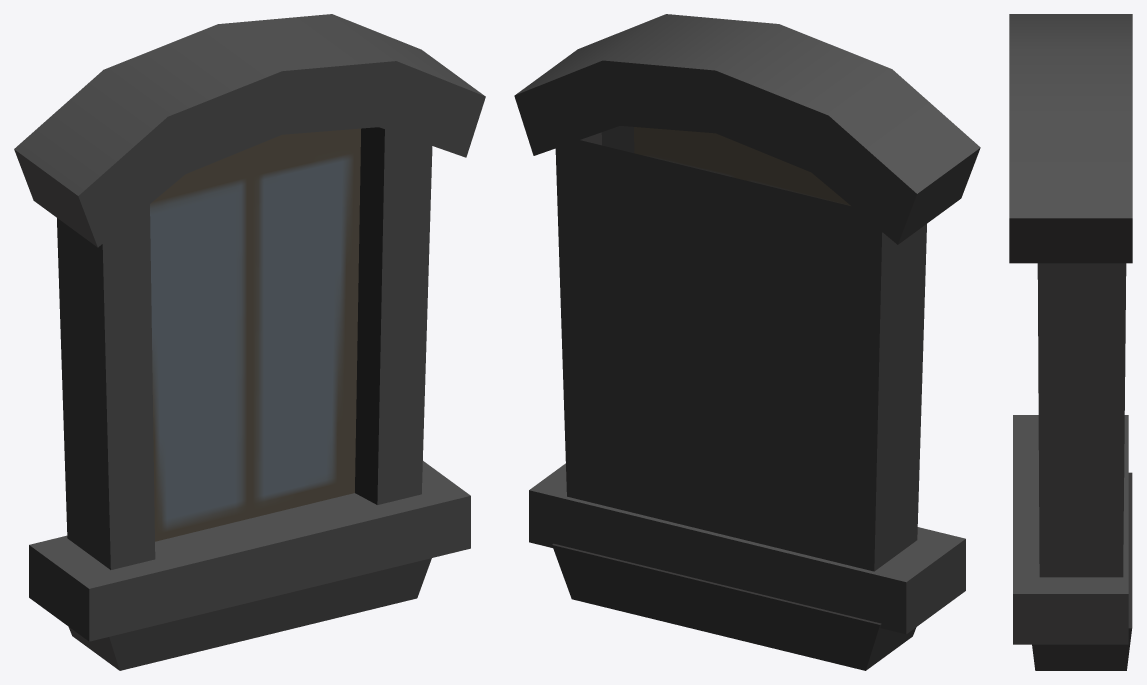
File: Window_D04.fbx
The picture shows the model from 3 angles, left to right: view 1: azimuth 30°, elevation 25°; view 2: azimuth 150°, elevation 25°; view 3: azimuth 270°, elevation 25°; orthographic projection. The views are drawn at different scales.
Parts seen in each view (by area): view 1: Window_D04; view 2: Window_D04; view 3: Window_D04.
Boxes of the visible parts, x1,y1,x2,y2 form: Window_D04: [14, 14, 485, 670]; Window_D04: [514, 14, 980, 670]; Window_D04: [1009, 14, 1132, 670].
Bounding box in the file's own units: 165 × 221 × 44.99.
